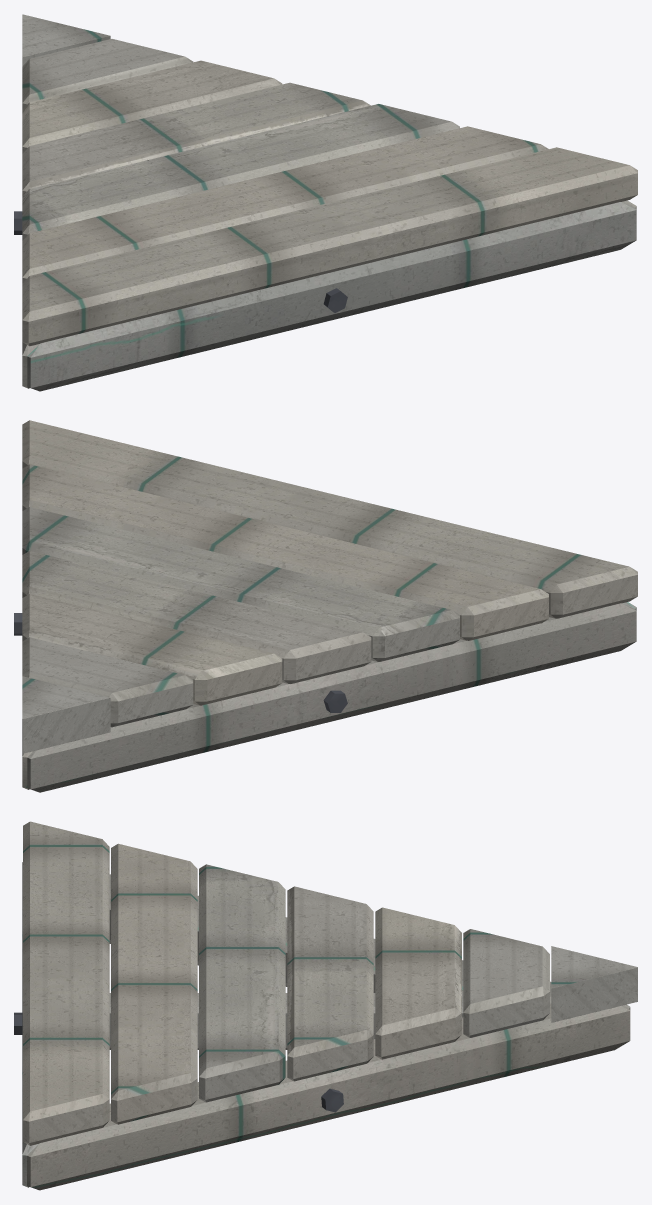
The model's file is ucgen_zemin.glb.
The picture shows the model from 3 angles, top to bottom: view 1: azimuth 30°, elevation 25°; view 2: azimuth 150°, elevation 25°; view 3: azimuth 270°, elevation 25°; orthographic projection.
Visible parts, largest first — view 1: ucgen_zemin; view 2: ucgen_zemin; view 3: ucgen_zemin.
Boxes of the visible parts, x1=… form: ucgen_zemin: x1=14, y1=14, x2=637, y2=391; ucgen_zemin: x1=14, y1=420, x2=637, y2=792; ucgen_zemin: x1=14, y1=821, x2=637, y2=1190.
Size of the model in its own units: 2.97 by 0.377 by 2.63.
1 material, 1 textured.
